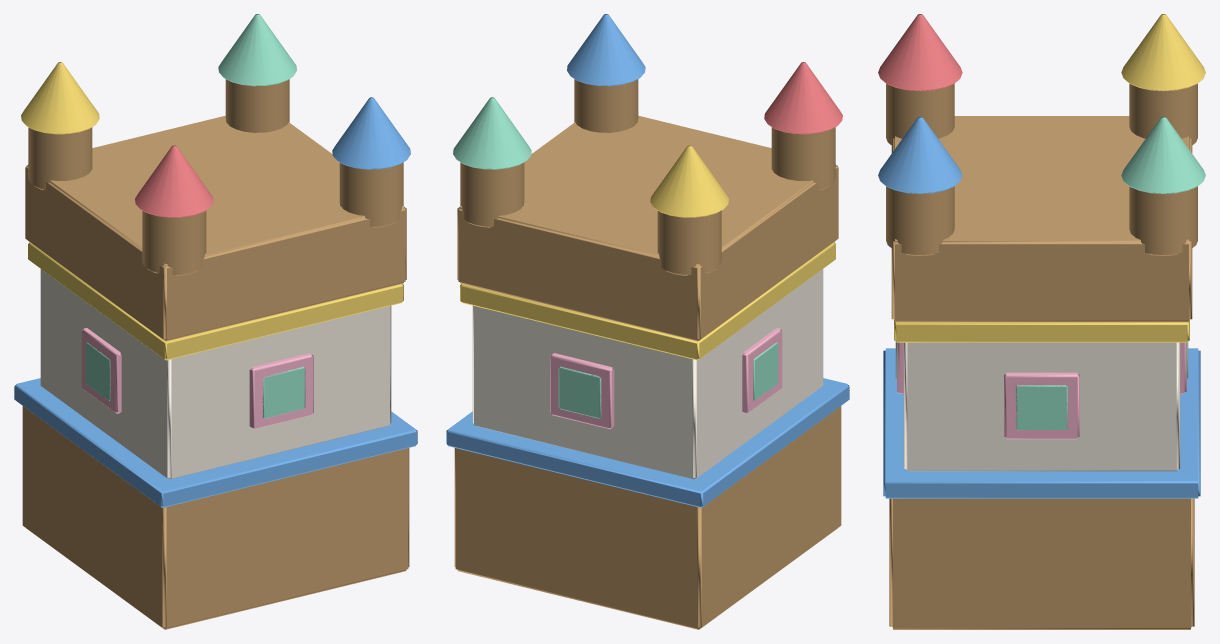
Rendered from castle_keep_center.glb.
3 renders of one model, left to right at view 1: azimuth 30°, elevation 25°; view 2: azimuth 150°, elevation 25°; view 3: azimuth 270°, elevation 25°, orthographic. The views are drawn at different scales.
Parts seen in each view (by area): view 1: Tier3Top, Tier1Base, Tier2Body, Tier1Trim, Tier2Trim, CornerTurret_0, CornerRoof_2, CornerRoof_1, CornerRoof_3, CornerRoof_0, CornerTurret_1, CornerTurret_2 (+5 smaller); view 2: Tier3Top, Tier1Base, Tier2Body, Tier1Trim, Tier2Trim, CornerTurret_2, CornerRoof_0, CornerRoof_3, CornerRoof_1, CornerRoof_2, CornerTurret_3, CornerTurret_0 (+5 smaller); view 3: Tier3Top, Tier1Base, Tier2Body, Tier1Trim, Tier2Trim, CornerRoof_1, CornerRoof_3, CornerRoof_0, CornerRoof_2, CornerTurret_1, CornerTurret_3, CornerTurret_0 (+3 smaller).
Boxes of the visible parts, bbox=[...] form: Tier3Top: bbox=[25, 115, 406, 341]; Tier1Base: bbox=[22, 406, 409, 629]; Tier2Body: bbox=[40, 269, 391, 479]; Tier1Trim: bbox=[14, 378, 417, 507]; Tier2Trim: bbox=[28, 242, 403, 360]; CornerTurret_0: bbox=[142, 210, 206, 275]; CornerRoof_2: bbox=[21, 62, 99, 134]; CornerRoof_1: bbox=[332, 97, 410, 169]; CornerRoof_3: bbox=[218, 14, 296, 86]; CornerRoof_0: bbox=[135, 145, 213, 217]; CornerTurret_1: bbox=[339, 162, 403, 227]; CornerTurret_2: bbox=[28, 127, 92, 189]; Tier3Top: bbox=[457, 115, 838, 341]; Tier1Base: bbox=[454, 406, 841, 629]; Tier2Body: bbox=[472, 269, 823, 479]; Tier1Trim: bbox=[446, 378, 849, 507]; Tier2Trim: bbox=[460, 242, 835, 360]; CornerTurret_2: bbox=[657, 210, 721, 275]; CornerRoof_0: bbox=[764, 62, 842, 134]; CornerRoof_3: bbox=[453, 97, 531, 169]; CornerRoof_1: bbox=[567, 14, 645, 86]; CornerRoof_2: bbox=[650, 145, 728, 217]; CornerTurret_3: bbox=[460, 162, 524, 227]; CornerTurret_0: bbox=[771, 127, 835, 189]; Tier3Top: bbox=[891, 116, 1192, 322]; Tier1Base: bbox=[889, 498, 1194, 629]; Tier2Body: bbox=[903, 342, 1180, 471]; Tier1Trim: bbox=[883, 348, 1200, 498]; Tier2Trim: bbox=[894, 320, 1189, 342]; CornerRoof_1: bbox=[878, 117, 962, 193]; CornerRoof_3: bbox=[1121, 117, 1205, 193]; CornerRoof_0: bbox=[878, 14, 962, 91]; CornerRoof_2: bbox=[1121, 14, 1205, 91]; CornerTurret_1: bbox=[886, 186, 954, 255]; CornerTurret_3: bbox=[1129, 186, 1197, 255]; CornerTurret_0: bbox=[886, 84, 954, 144].
Size of the model in its own units: 6.87 by 11.57 by 6.87.
